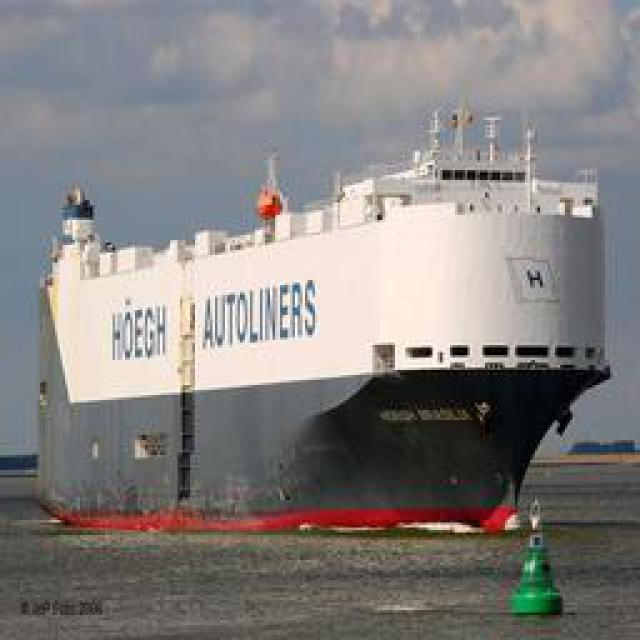Ship: (19, 151, 612, 529)
